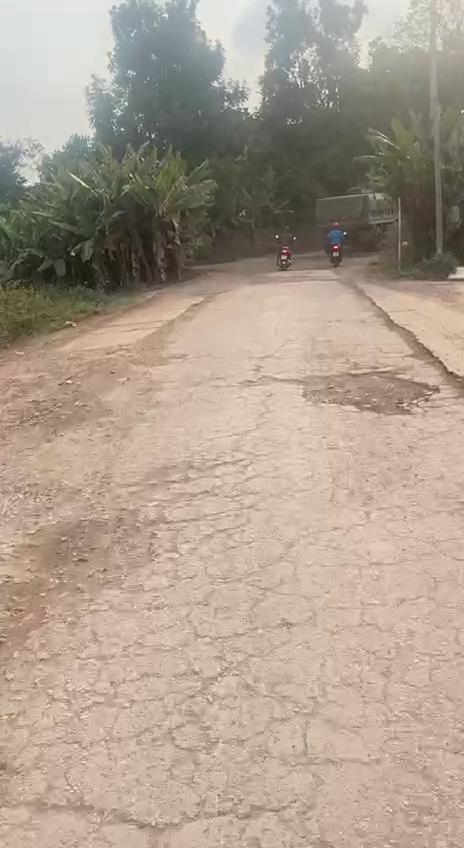pothole: (298, 368, 438, 416)
